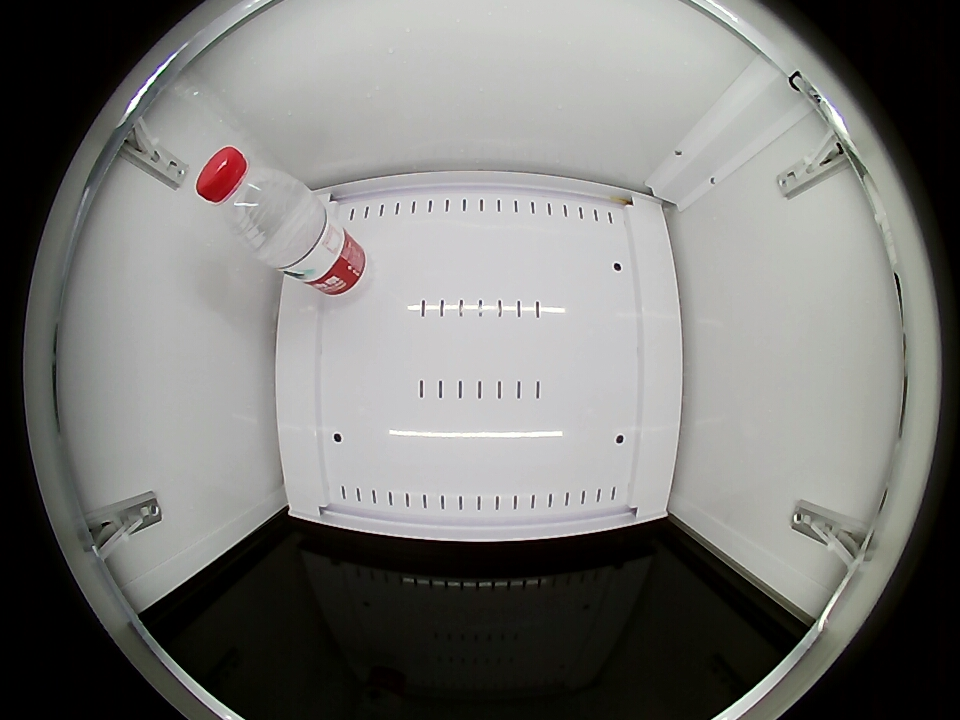nongfushanquan: (195, 147, 306, 254)
